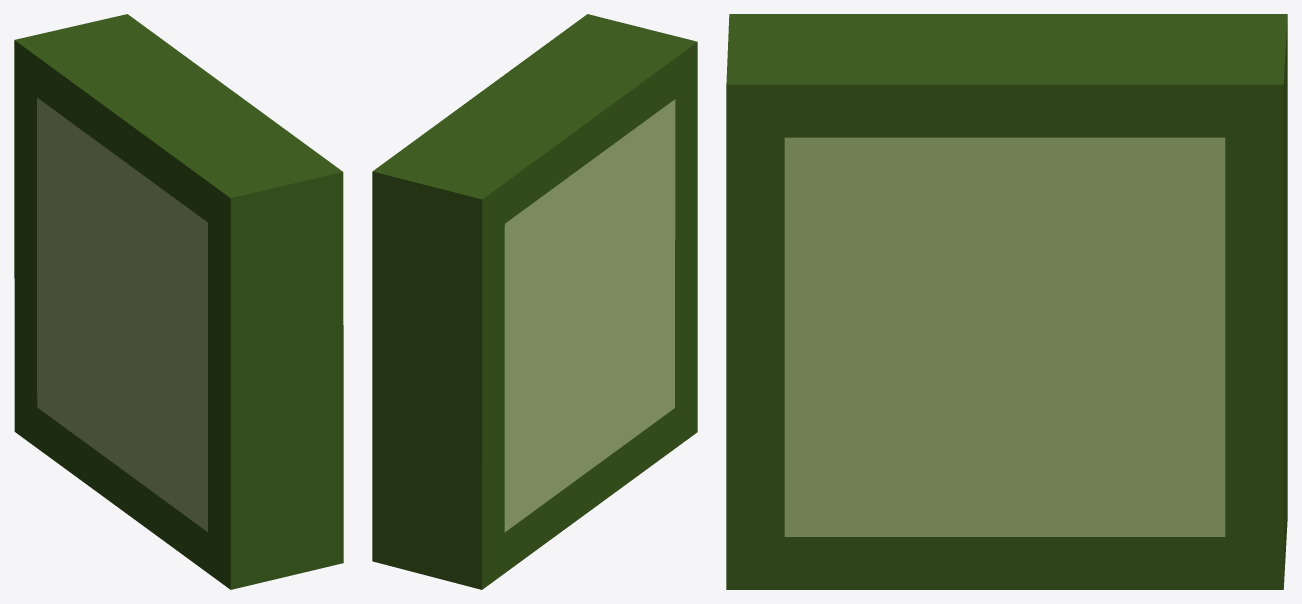
File: food_ingredient_cucumber_slice.fbx
3 views of the same model, side by side, from view 1: azimuth 30°, elevation 25°; view 2: azimuth 150°, elevation 25°; view 3: azimuth 270°, elevation 25° (orthographic). The views are drawn at different scales.
Visible parts, largest first — view 1: cucumberSlice; view 2: cucumberSlice; view 3: cucumberSlice.
Boxes of the visible parts, x1=… form: cucumberSlice: x1=14, y1=14, x2=343, y2=589; cucumberSlice: x1=372, y1=14, x2=697, y2=589; cucumberSlice: x1=726, y1=14, x2=1287, y2=589.
Size of the model in its own units: 1.79 by 5.98 by 6.01.
